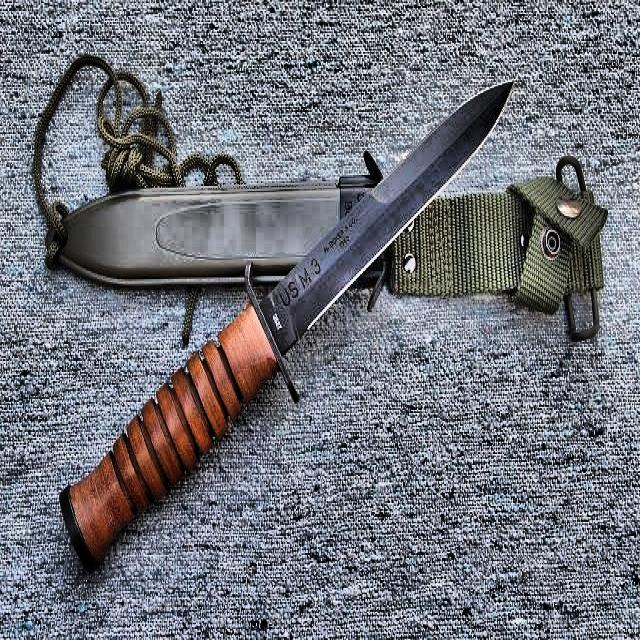knife: (59, 81, 516, 573)
